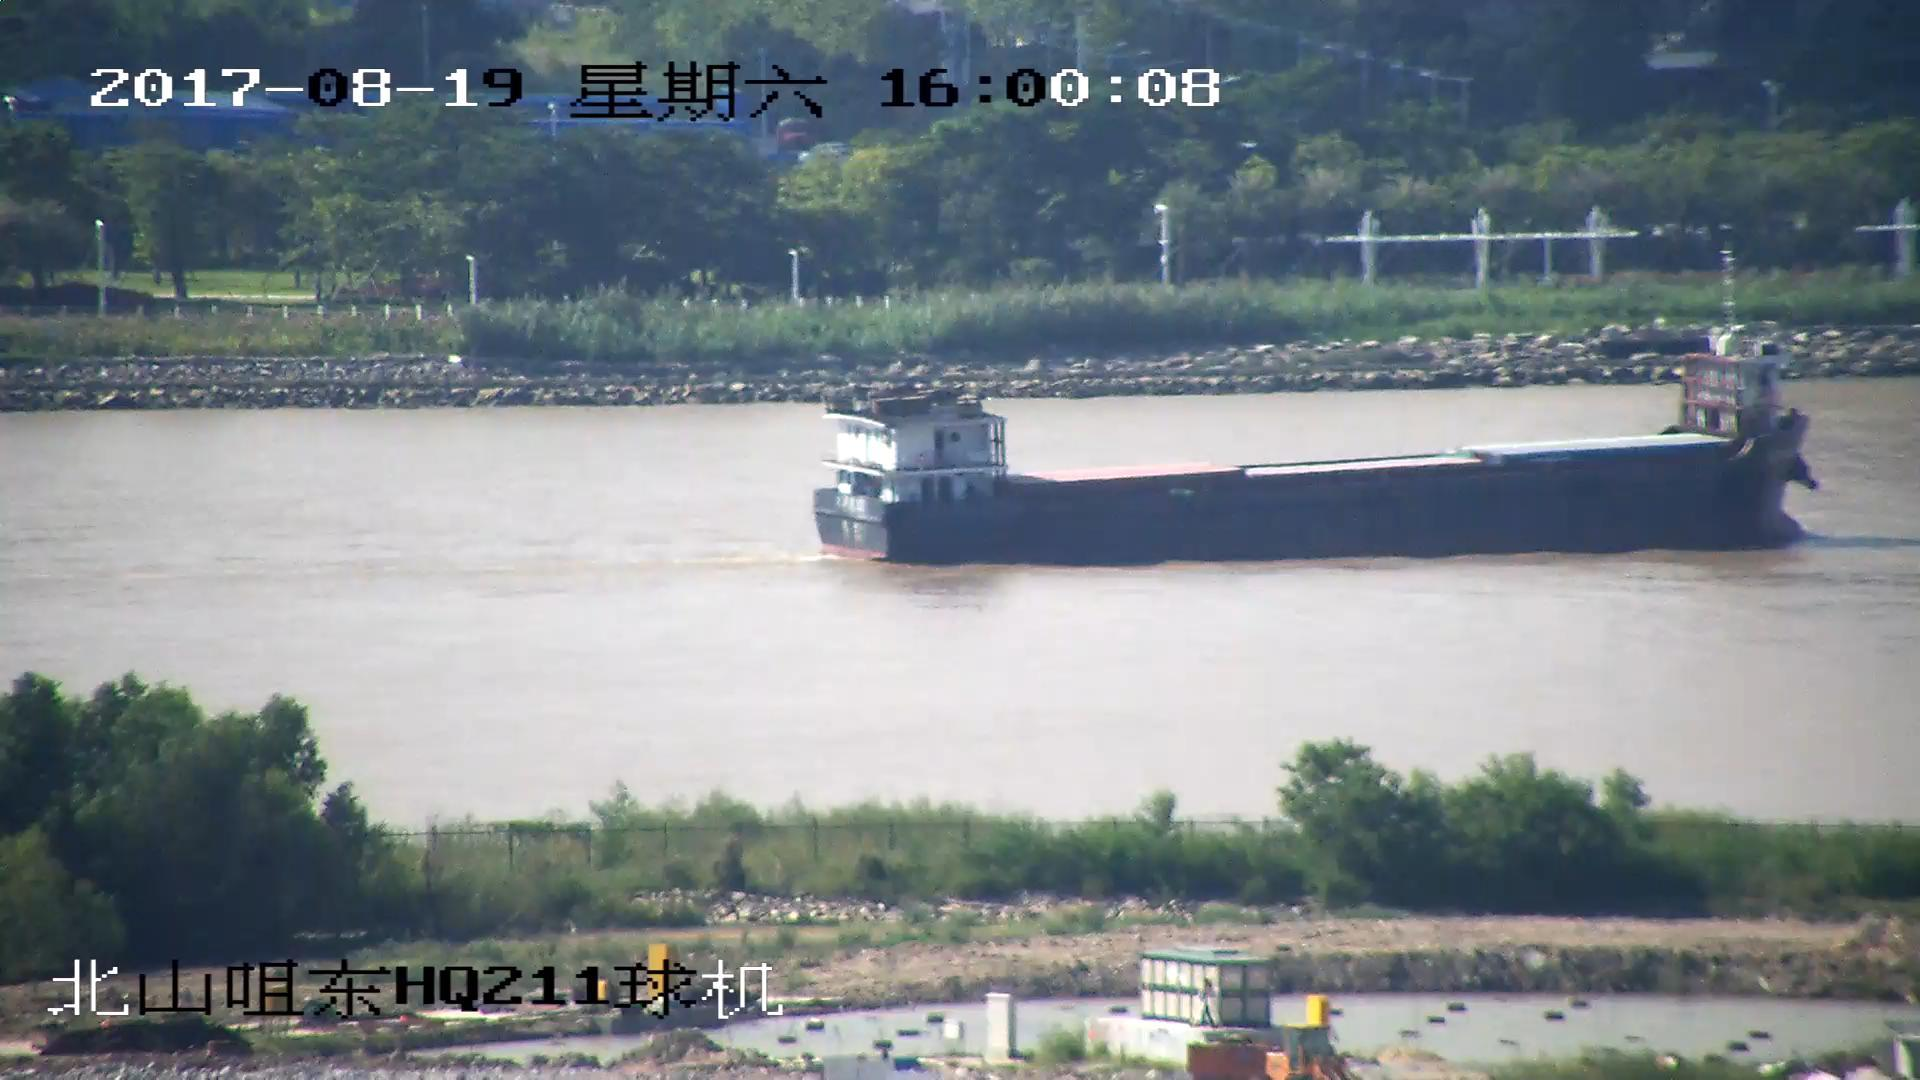Ship: (808, 313, 1828, 567)
